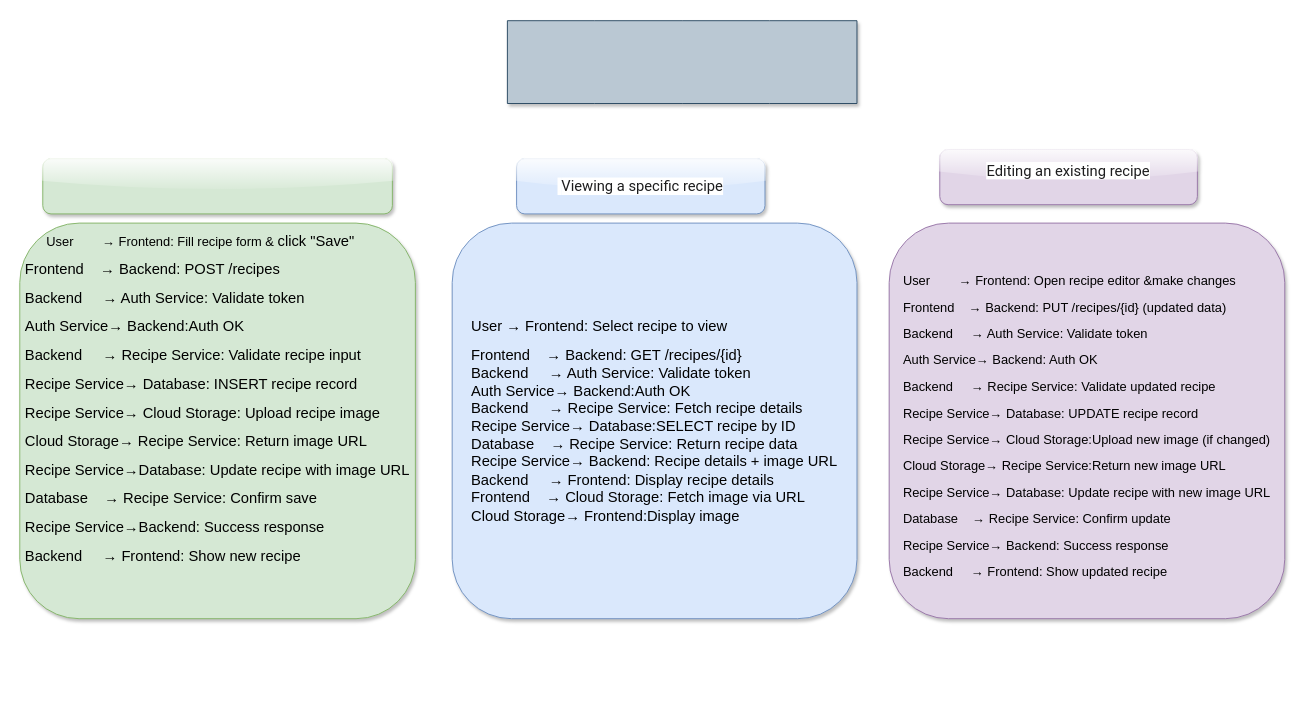
The diagram is 1306 pixels wide and 708 high, and some of its shapes have lost their labels. Here are the shapes that lost their labels. From the top down, the centre of each, then its label:
At (x=682, y=63): "Sequence Diagram".
At (x=218, y=187): "Adding a new recipe".
